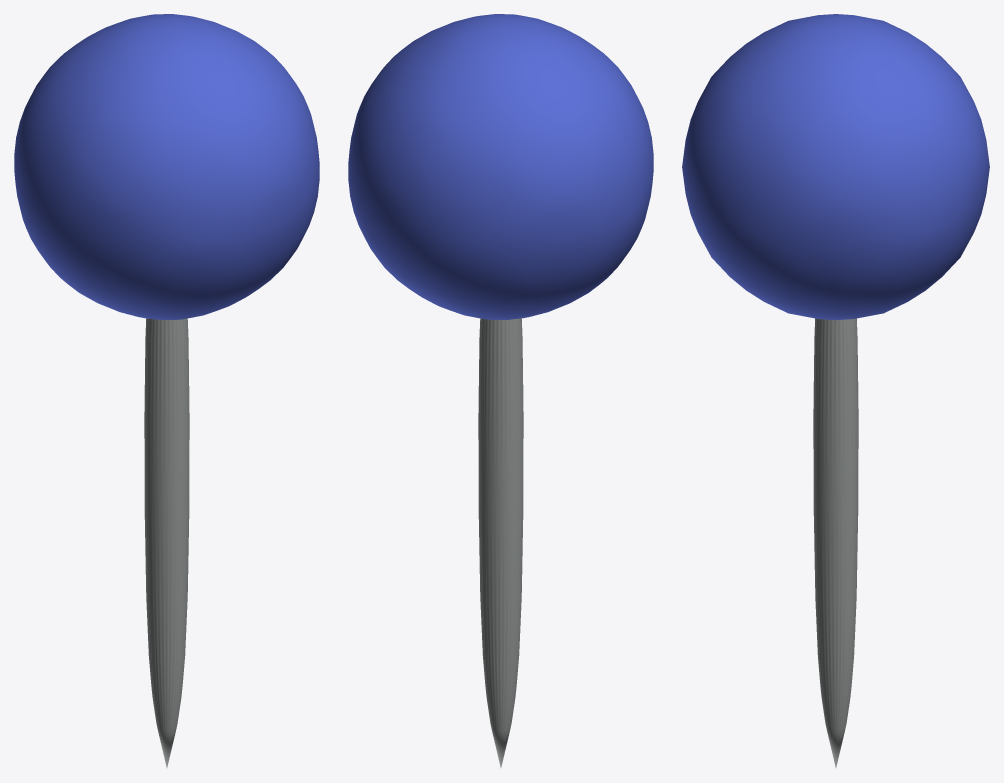
File: Pin.fbx
3 renders of one model, left to right at view 1: azimuth 30°, elevation 25°; view 2: azimuth 150°, elevation 25°; view 3: azimuth 270°, elevation 25°, orthographic.
Visible parts, largest first — view 1: Icosphere; view 2: Icosphere; view 3: Icosphere.
Boxes of the visible parts, x1,y1,x2,y2 form: Icosphere: (14,14,319,767); Icosphere: (348,14,653,767); Icosphere: (682,14,989,767).
Bounding box in the file's own units: 21.26 × 56.95 × 21.42.
